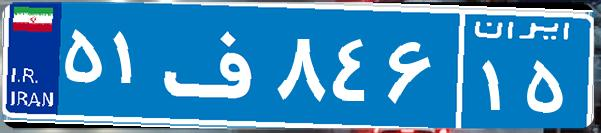1: (475, 38, 525, 113), (110, 28, 158, 105)
4: (330, 28, 385, 110)
5: (57, 26, 110, 107), (525, 38, 570, 115)
6: (385, 28, 445, 110)
8: (273, 28, 330, 110)
ف: (158, 15, 273, 115)
